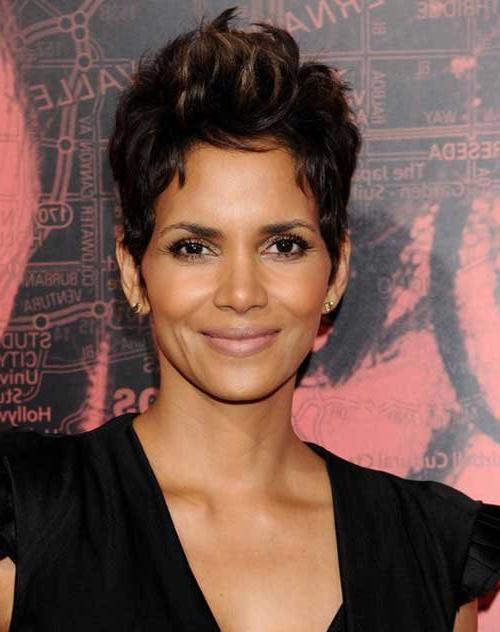Sober: (155, 155, 326, 388)
